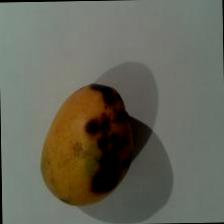Mango Overripe: (35, 79, 135, 201)
